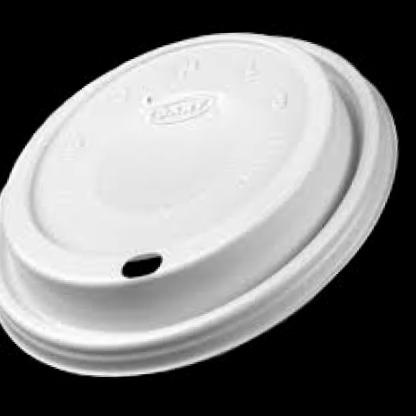trash: (0, 33, 396, 375)
